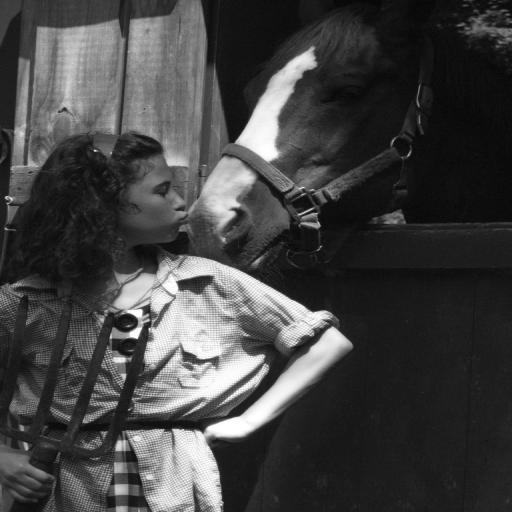horse: (187, 2, 481, 274)
